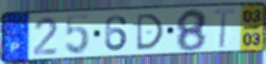2: (32, 16, 60, 57)
5: (64, 13, 94, 57)
6: (104, 14, 130, 52)
8: (174, 7, 209, 53)
D: (135, 12, 165, 52)
T: (212, 7, 237, 50)
